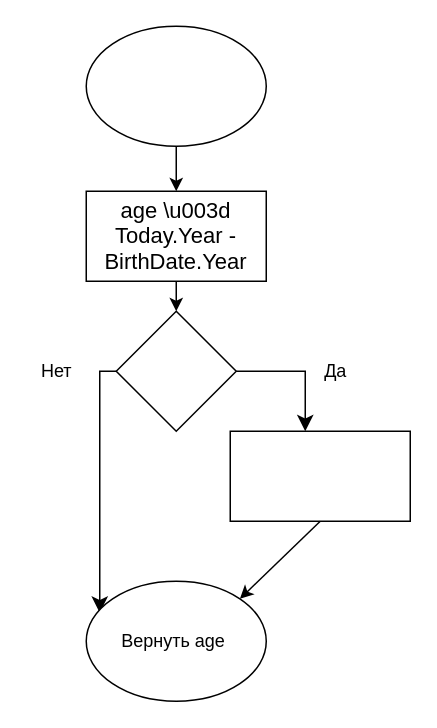
The diagram is 437 pixels wide and 728 high, and some of its shapes have lost their labels. The shapes that lost their labels are listed below. From the top down, each one's centre as x and y in pixels, then its label:
At (175,85): "Начало".
At (319,475): "age--".
